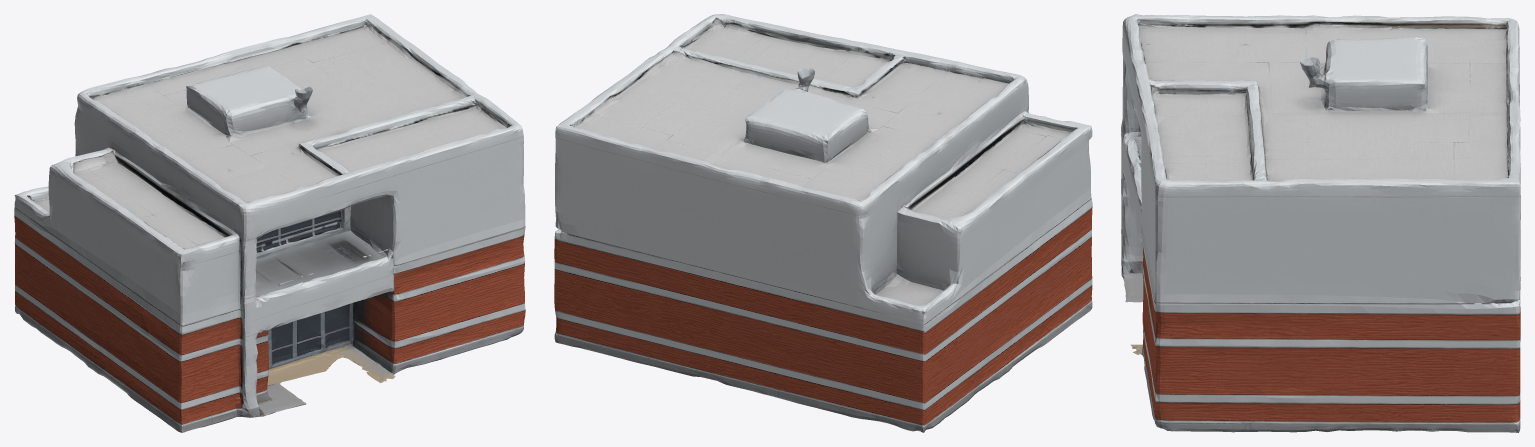
File: Step_building.glb
3 renders of one model, left to right at view 1: azimuth 30°, elevation 25°; view 2: azimuth 150°, elevation 25°; view 3: azimuth 270°, elevation 25°, orthographic. The views are drawn at different scales.
Visible parts, largest first — view 1: tripo_node_eaa2a88b-3fdc-4063-be3d-1a91339a6319; view 2: tripo_node_eaa2a88b-3fdc-4063-be3d-1a91339a6319; view 3: tripo_node_eaa2a88b-3fdc-4063-be3d-1a91339a6319.
Part boxes in pixels (x1,y1,x2,y2): tripo_node_eaa2a88b-3fdc-4063-be3d-1a91339a6319: [14, 14, 525, 432]; tripo_node_eaa2a88b-3fdc-4063-be3d-1a91339a6319: [554, 14, 1092, 432]; tripo_node_eaa2a88b-3fdc-4063-be3d-1a91339a6319: [1121, 14, 1520, 432].
Size of the model in its own units: 0.9995 by 0.6366 by 0.8072.
1 material, 1 textured.
